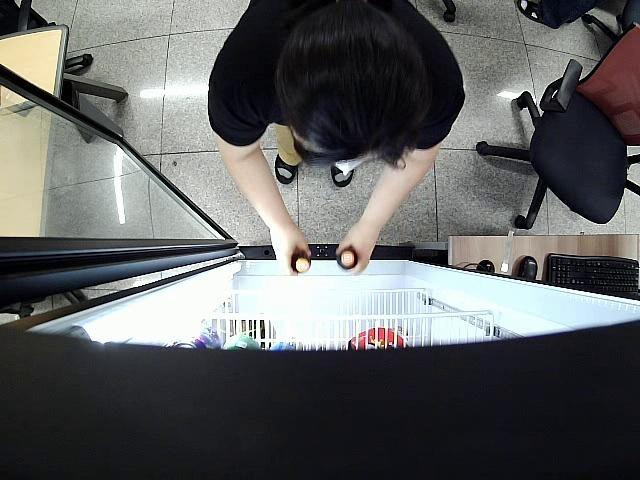17_vita500: (335, 246, 360, 271), (290, 250, 313, 276)
